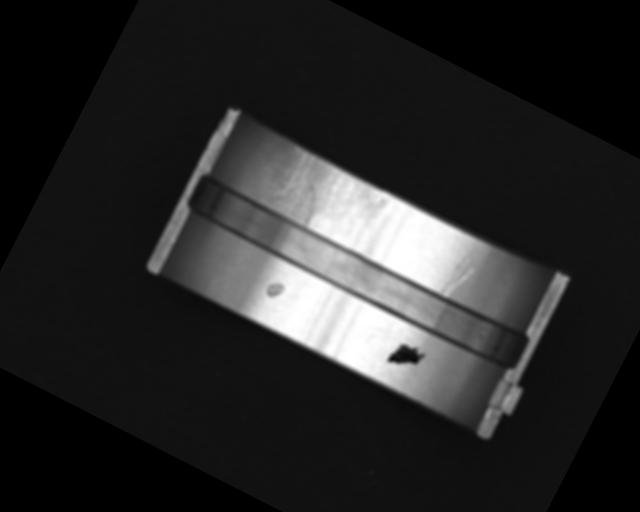blot: (385, 336, 427, 375)
bruise: (262, 277, 287, 302)
gap: (182, 170, 533, 377)
nick: (439, 251, 478, 302)
scratch: (253, 138, 392, 254)
